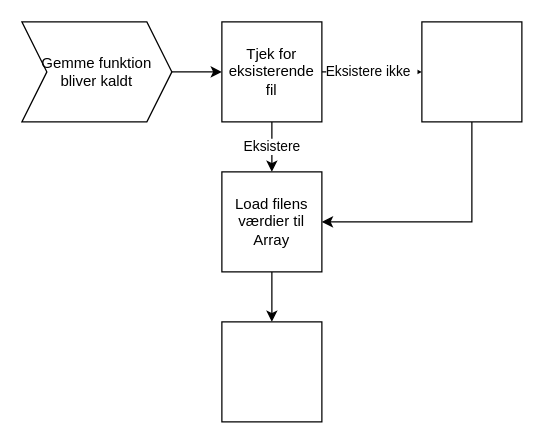
The diagram is 544 pixels wide and 444 high, and some of its shapes have lost their labels. Here are the shapes that lost their labels. From the top down, the centre of each, then its label:
At point (471, 71): "Lav ny fil med plads holder værdi 0".
At point (271, 371): "Highscores vises på menu".
